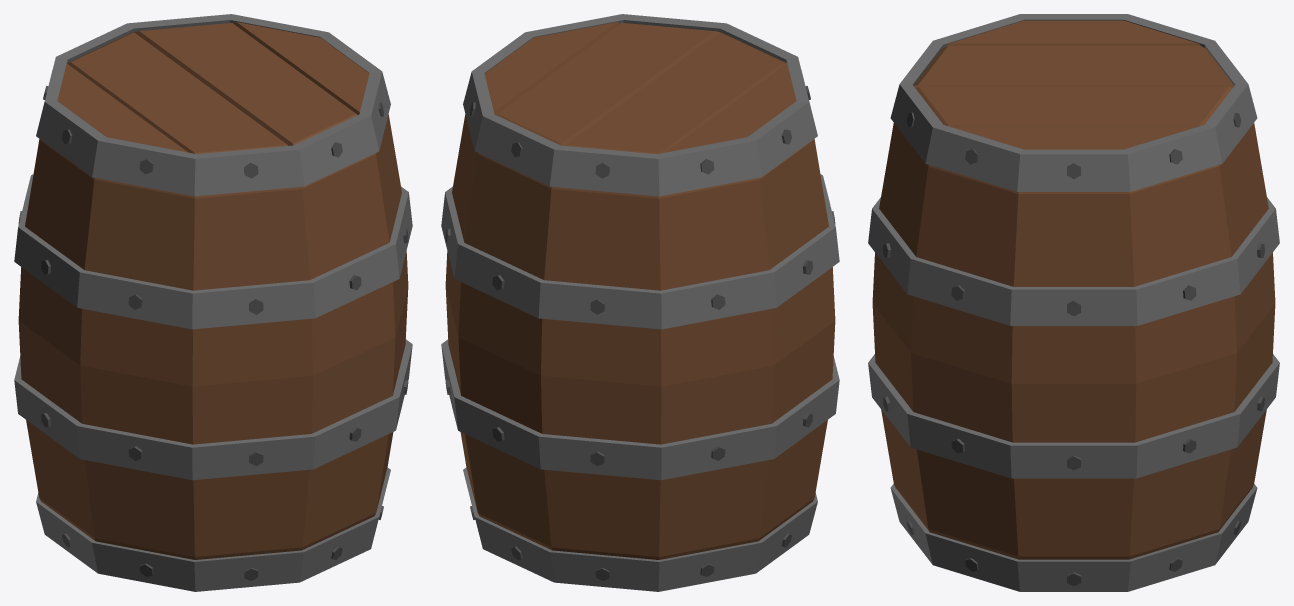
The model's file is ast_prop_barrel.fbx.
The picture shows the model from 3 angles, left to right: view 1: azimuth 30°, elevation 25°; view 2: azimuth 150°, elevation 25°; view 3: azimuth 270°, elevation 25°; orthographic projection.
Visible parts, largest first — view 1: Cylinder, Cube; view 2: Cylinder, Cube; view 3: Cylinder, Cube.
Part boxes in pixels (box(x1,y1,x2,y2)): Cylinder: box(14, 14, 412, 591); Cube: box(18, 86, 408, 580); Cylinder: box(441, 14, 839, 591); Cube: box(445, 86, 835, 580); Cylinder: box(868, 14, 1279, 591); Cube: box(883, 112, 1264, 585).
Size of the model in its own units: 239 by 292 by 249.
